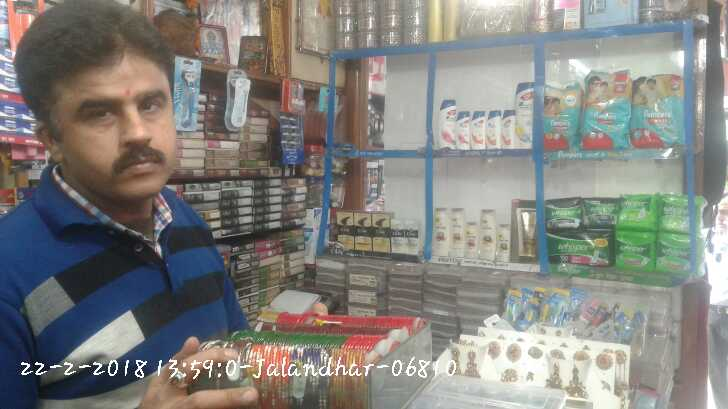gillete: (281, 77, 308, 166)
venus: (222, 70, 249, 134), (178, 58, 201, 131)
